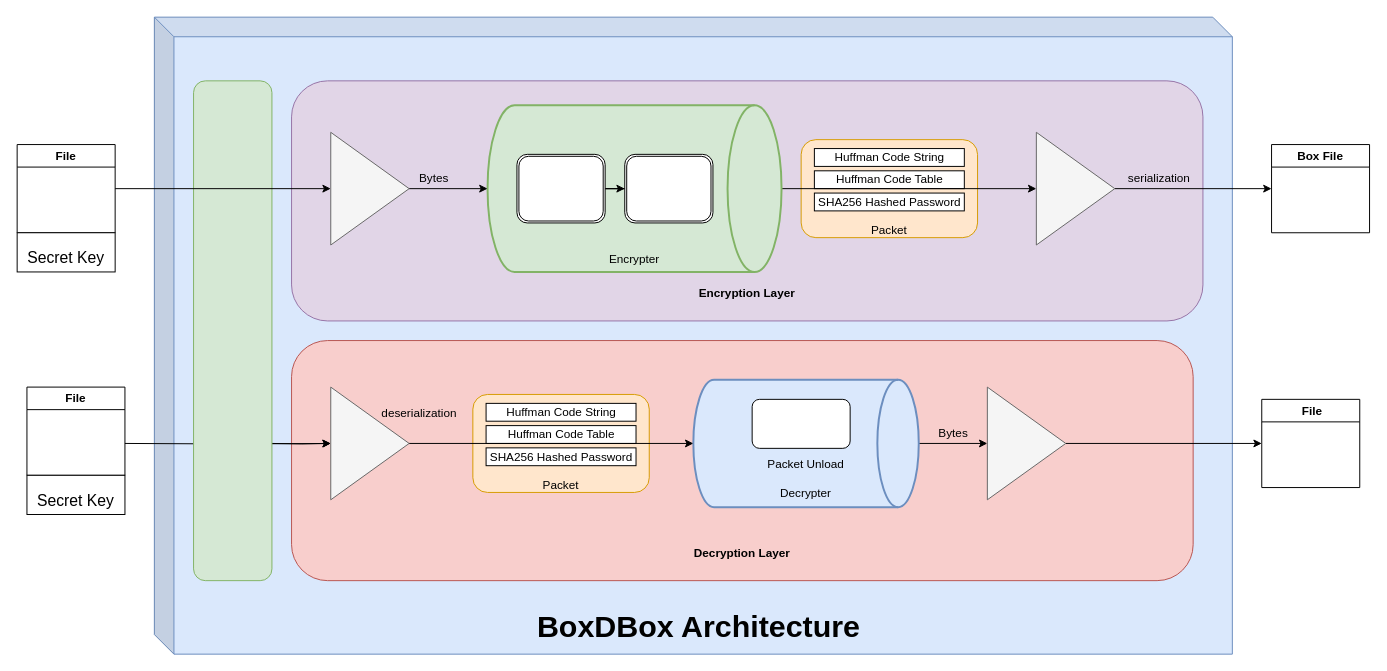
Some shapes in this 1387 by 671 pixel diagram are drawn without their labels. Here are the shapes that lost their labels. From the top down, the centre of each, then its label:
At [369,188]: "EnReader".
At [560,188]: "Hasher".
At [668,188]: "Packet Builder".
At [1075,188]: "EnWriter".
At [232,330]: "GUI".
At [369,443]: "DeReader".
At [800,423]: "Validation".
At [1026,443]: "DeWriter".
